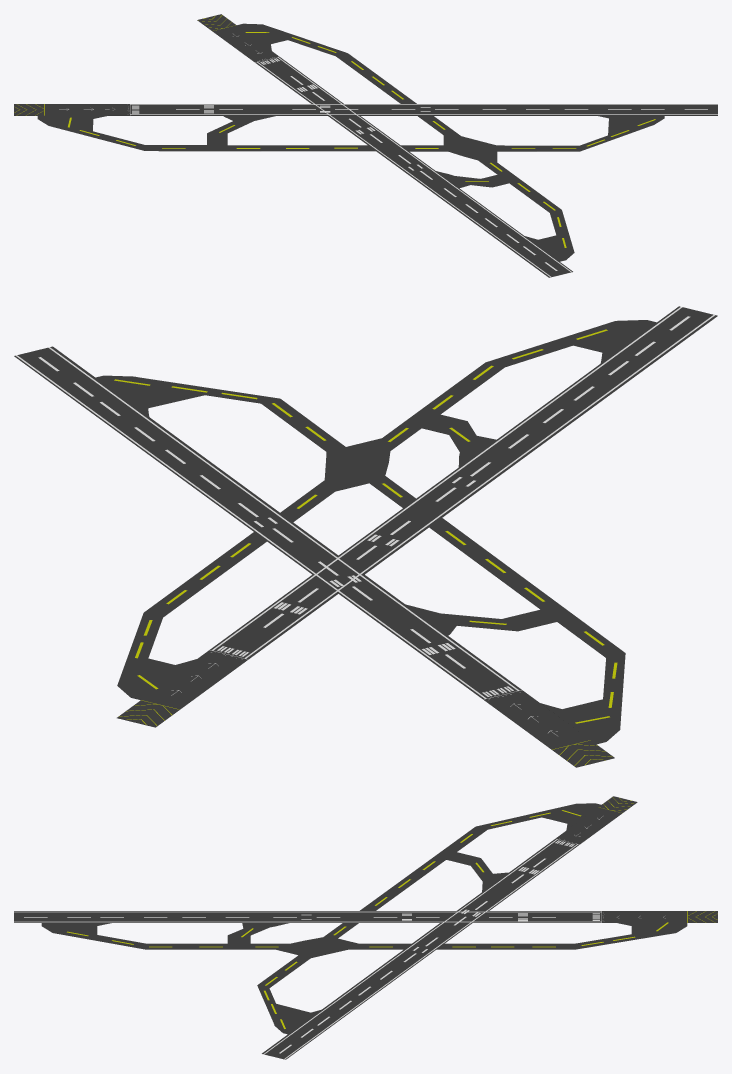
Rendered from AirPort.dae.
3 views of the same model, one above another, from view 1: azimuth 30°, elevation 25°; view 2: azimuth 150°, elevation 25°; view 3: azimuth 270°, elevation 25° (orthographic). The views are drawn at different scales.
Parts seen in each view (by area): view 1: RunWay, Runway_50, RunWay_12_, TaxiWay; view 2: RunWay, RunWay_12_, Runway_50, TaxiWay; view 3: RunWay, RunWay_12_, Runway_50, TaxiWay.
Boxes of the visible parts, <box> form: RunWay: <box>14,14,717,277</box>; Runway_50: <box>59,104,717,115</box>; RunWay_12_: <box>233,34,571,277</box>; TaxiWay: <box>68,32,655,247</box>; RunWay: <box>14,306,717,767</box>; RunWay_12_: <box>171,307,714,695</box>; Runway_50: <box>15,347,557,735</box>; TaxiWay: <box>114,329,617,723</box>; RunWay: <box>14,796,717,1059</box>; RunWay_12_: <box>14,911,665,922</box>; Runway_50: <box>263,816,602,1059</box>; TaxiWay: <box>67,810,668,1028</box>.
Bounding box in the file's own units: 443 × 500 × 0.1322.
